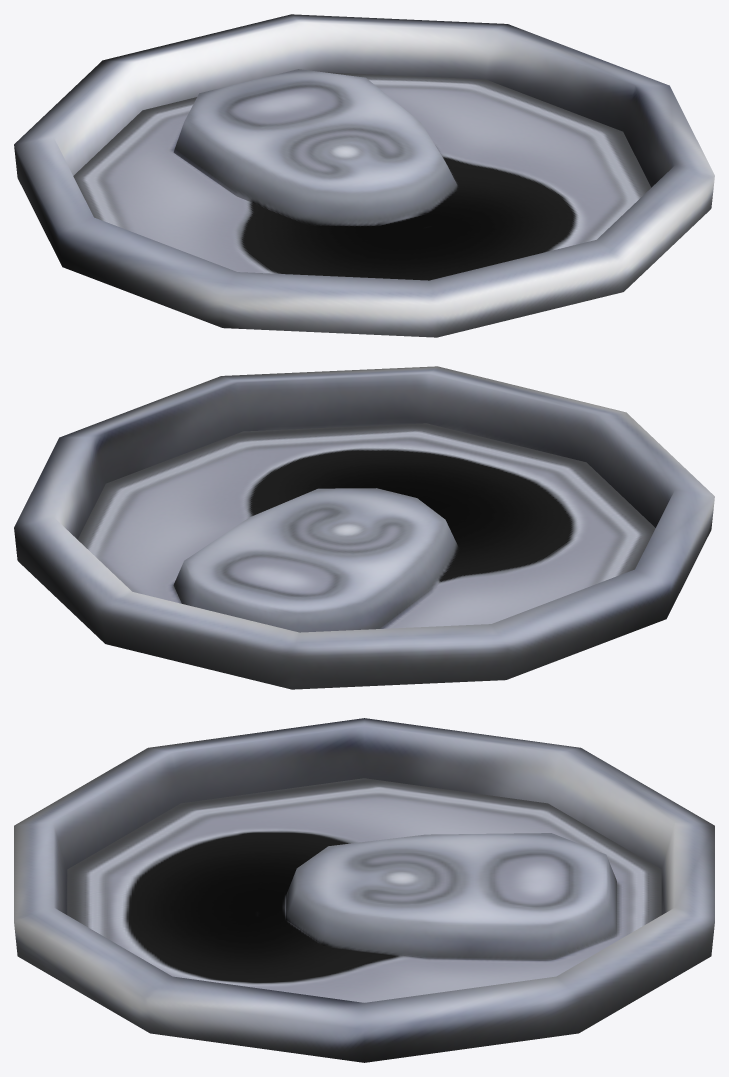
Rendered from Can_Top_Open.fbx.
3 renders of one model, top to bottom at view 1: azimuth 30°, elevation 25°; view 2: azimuth 150°, elevation 25°; view 3: azimuth 270°, elevation 25°, orthographic. The views are drawn at different scales.
Parts seen in each view (by area): view 1: Can_Top_Closed; view 2: Can_Top_Closed; view 3: Can_Top_Closed.
Part boxes in pixels (x1,y1,x2,y2): Can_Top_Closed: [14, 14, 714, 337]; Can_Top_Closed: [14, 366, 714, 689]; Can_Top_Closed: [14, 718, 714, 1062].
Bounding box in the file's own units: 30.51 × 2.07 × 29.02.
